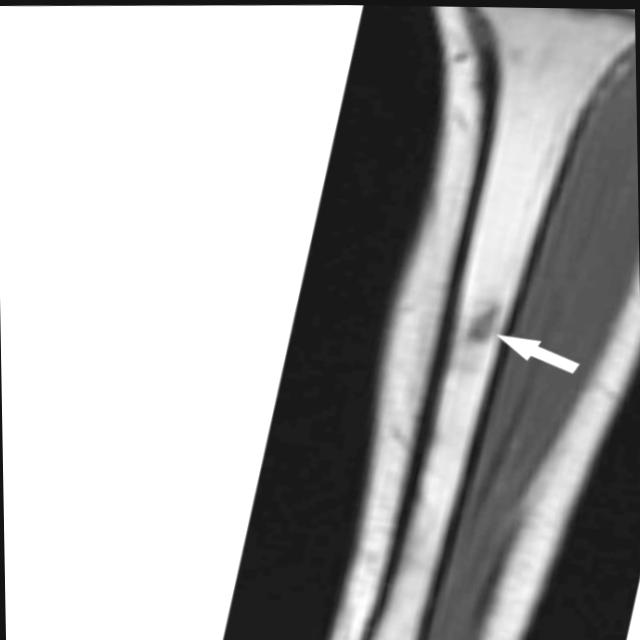Oblique Displaced: (431, 284, 512, 342)
